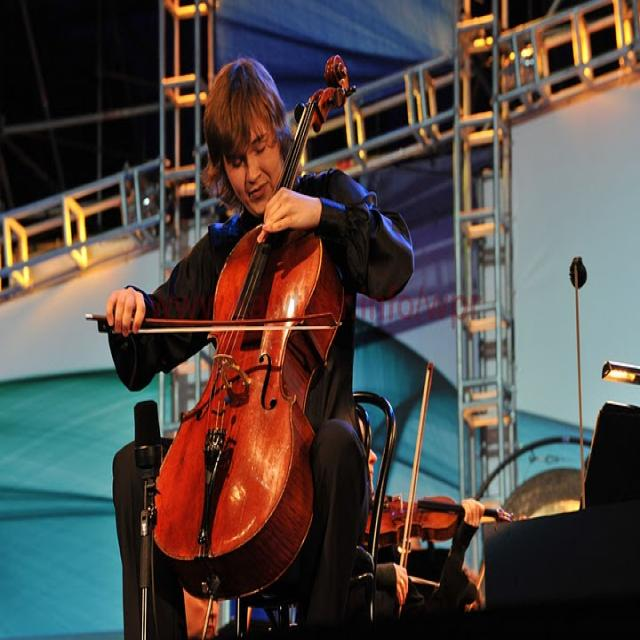cello: (148, 54, 358, 603)
